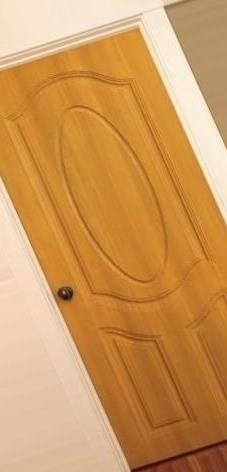door: (0, 18, 227, 472)
